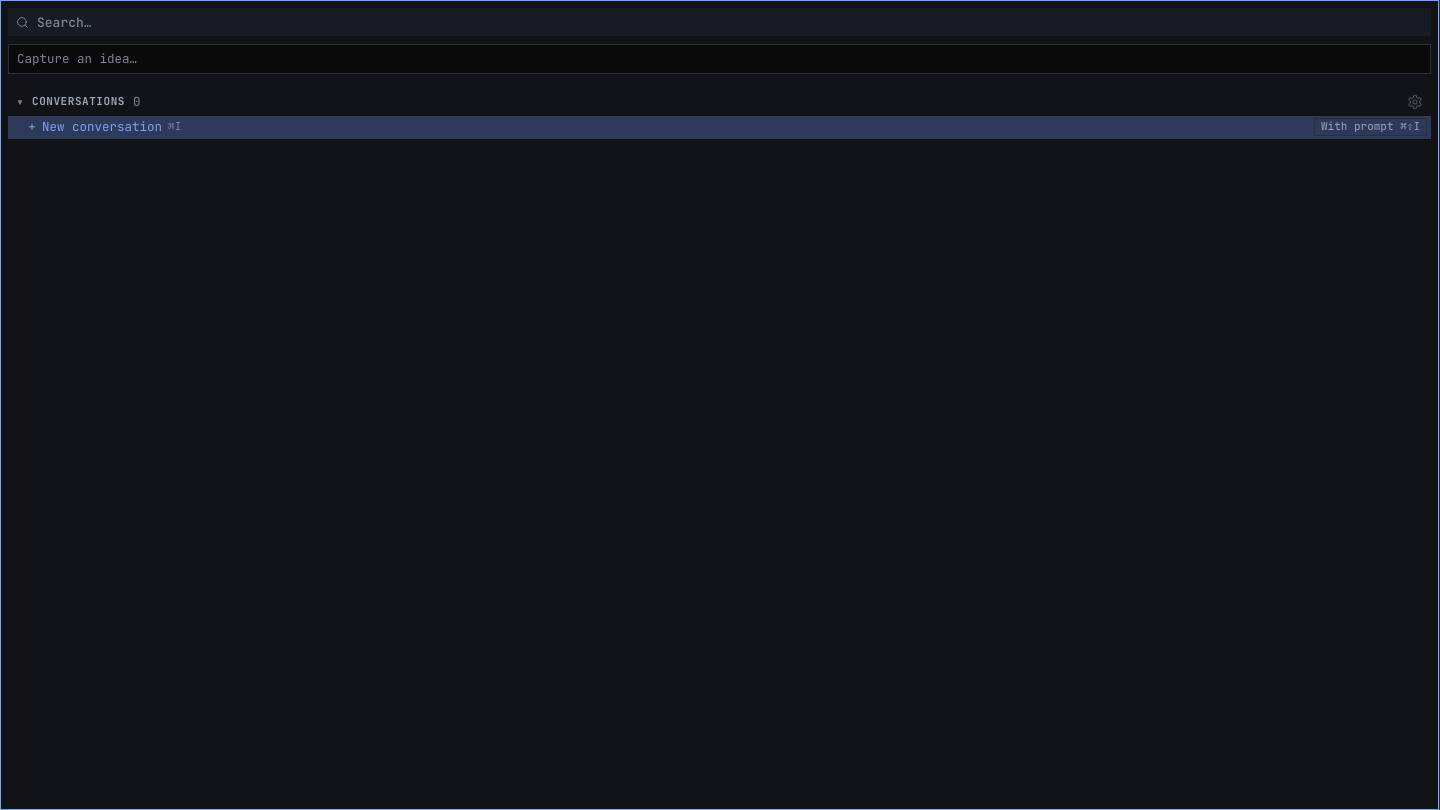
Scenario: overhaul acceptance — Conversation shortcuts and composer › collapses the Conversations section and reopens it for the composer
The width and height of the screenshot is (1440, 810).
Click the button with aria-label "Collapse Conversations" at (78, 101), box [12,93,1399,111]
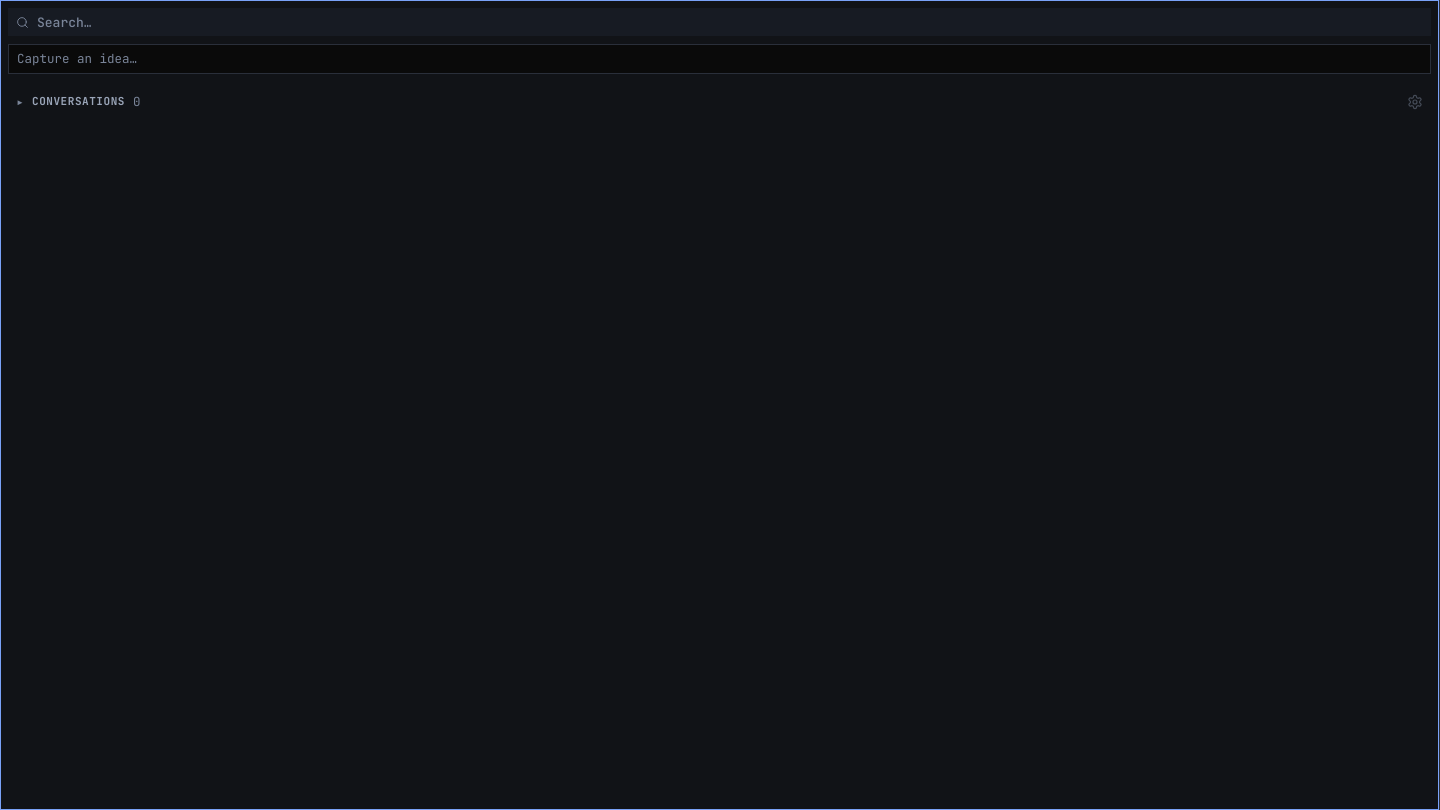
expect the text "New conversation" is gone: met
expect the button with aria-label "Expand Conversations" is collapsed: met, box [12,93,1399,111]
Press I
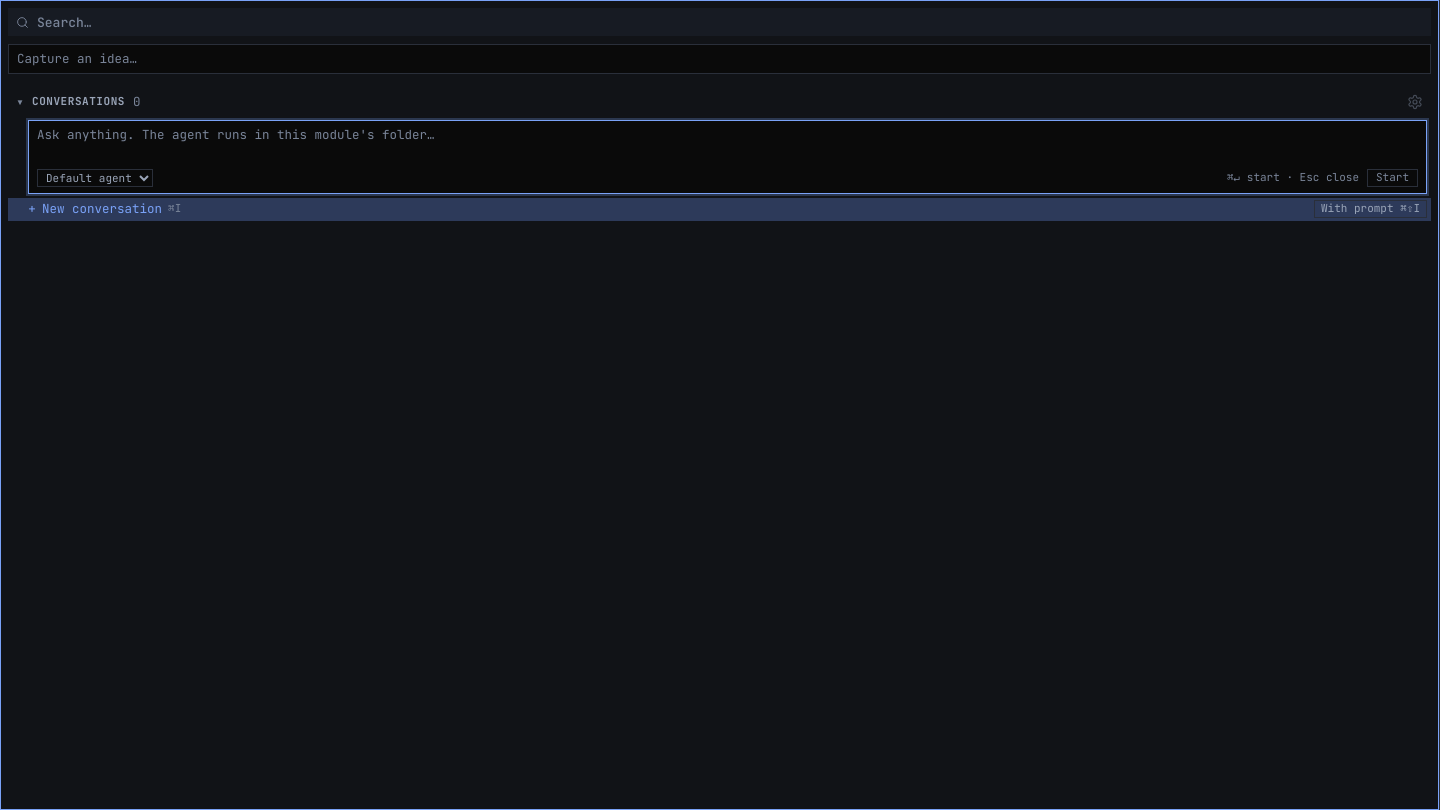
expect the text box named "First message for the new conversation" is shown: met, box [29,121,1426,169]
expect the list item "+ New conversation ⌘I With prompt ⌘⇧I" is shown: met, box [8,198,1431,221]
